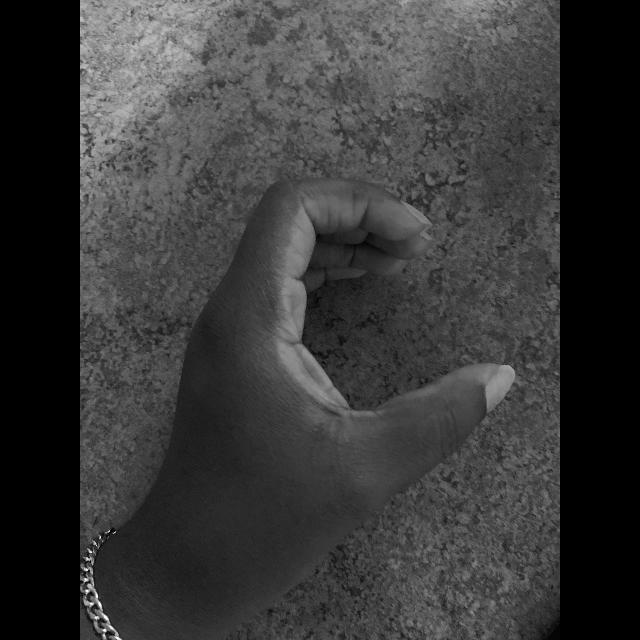C: (136, 171, 524, 611)
